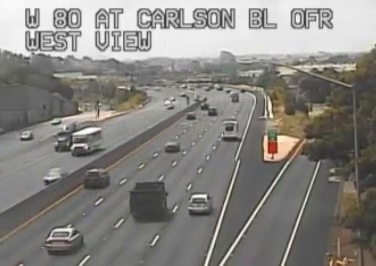bus: (222, 120, 237, 140)
car: (45, 228, 82, 252), (83, 169, 109, 188), (187, 194, 210, 213)
small-truck: (129, 183, 166, 220)
